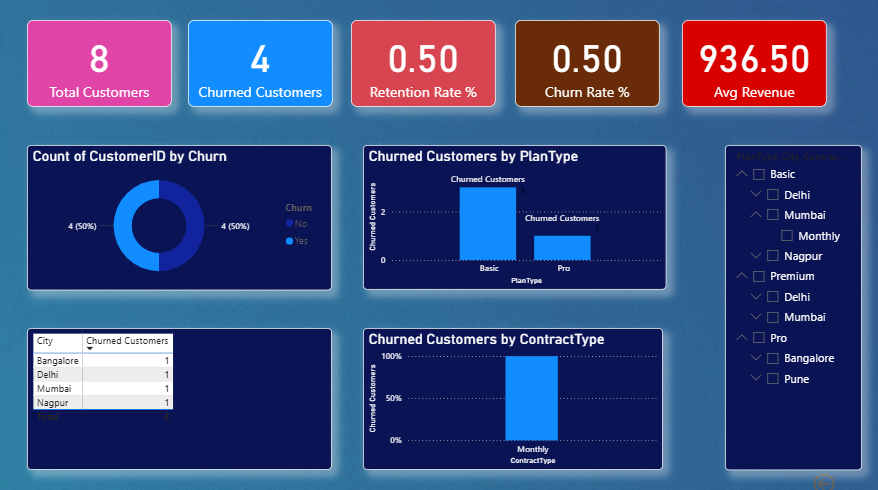

What the dashboard file says about the page in this screenshot:
{"tool":"powerbi","page":{"name":"Page 1","canvas":[1280,720],"ordinal":0},"visuals":[{"type":"card","fields":{"Values":["Customers-1.Churned Customers"]},"box":[297.3,42,204.9,122.6],"z":0},{"type":"card","fields":{"Values":["Customers-1.Total Customers"]},"box":[68.9,42,204.9,122.6],"z":1000},{"type":"card","fields":{"Values":["Customers-1.Retention Rate %"]},"box":[529.1,42,204.9,122.6],"z":2000},{"type":"card","fields":{"Values":["Customers-1.Churn Rate %"]},"box":[760.9,42,204.9,122.6],"z":3000},{"type":"card","fields":{"Values":["Customers-1.Avg Revenue"]},"box":[997.8,42,204.9,122.6],"z":4000},{"type":"donutChart","fields":{"Category":["Subscriptions.Churn"],"Y":["CountNonNull(Customers-1.CustomerID)"]},"box":[69.4,219.7,432.3,205.5],"z":5000},{"type":"columnChart","fields":{"Category":["Subscriptions.PlanType"],"Y":["Customers-1.Churned Customers"]},"box":[545.9,220.1,430,204.9],"z":6000},{"type":"hundredPercentStackedColumnChart","fields":{"Category":["Subscriptions.ContractType"],"Y":["Customers-1.Churned Customers"]},"box":[545.7,479.1,425.2,201.3],"z":7000},{"type":"tableEx","fields":{"Values":["Customers-1.City","Customers-1.Churned Customers"]},"box":[69.4,479.1,432.3,201.3],"z":8000},{"type":"actionButton","box":[1179.2,680.3,100.6,39.7],"z":9000},{"type":"slicer","fields":{"Values":["Subscriptions.PlanType","Customers-1.City","Subscriptions.ContractType"]},"box":[1058.7,219.7,194.2,460.6],"z":10000}]}

Visuals, with their boxes in screenshot pixels (x1, y1, x2, y2), scaled from the page's 1280x720 canvas onto the 878x490 screenshot:
card - Customers-1.Churned Customers: box(204, 29, 344, 112)
card - Customers-1.Total Customers: box(47, 29, 188, 112)
card - Customers-1.Retention Rate %: box(363, 29, 503, 112)
card - Customers-1.Churn Rate %: box(522, 29, 662, 112)
card - Customers-1.Avg Revenue: box(684, 29, 825, 112)
donutChart - Subscriptions.Churn x CountNonNull(Customers-1.CustomerID): box(48, 150, 344, 289)
columnChart - Subscriptions.PlanType x Customers-1.Churned Customers: box(374, 150, 669, 289)
hundredPercentStackedColumnChart - Subscriptions.ContractType x Customers-1.Churned Customers: box(374, 326, 666, 463)
tableEx - Customers-1.City x Customers-1.Churned Customers: box(48, 326, 344, 463)
actionButton: box(809, 463, 877, 489)
slicer - Subscriptions.PlanType x Customers-1.City: box(726, 150, 859, 463)
